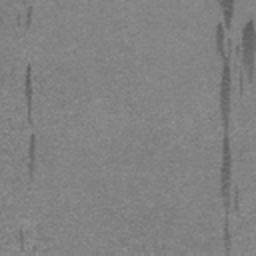Red iron sheet: (216, 0, 235, 214), (236, 19, 256, 83), (24, 64, 33, 124), (27, 134, 36, 175), (223, 222, 231, 252), (26, 6, 32, 27), (234, 190, 239, 210), (239, 75, 243, 92), (19, 231, 24, 243)
